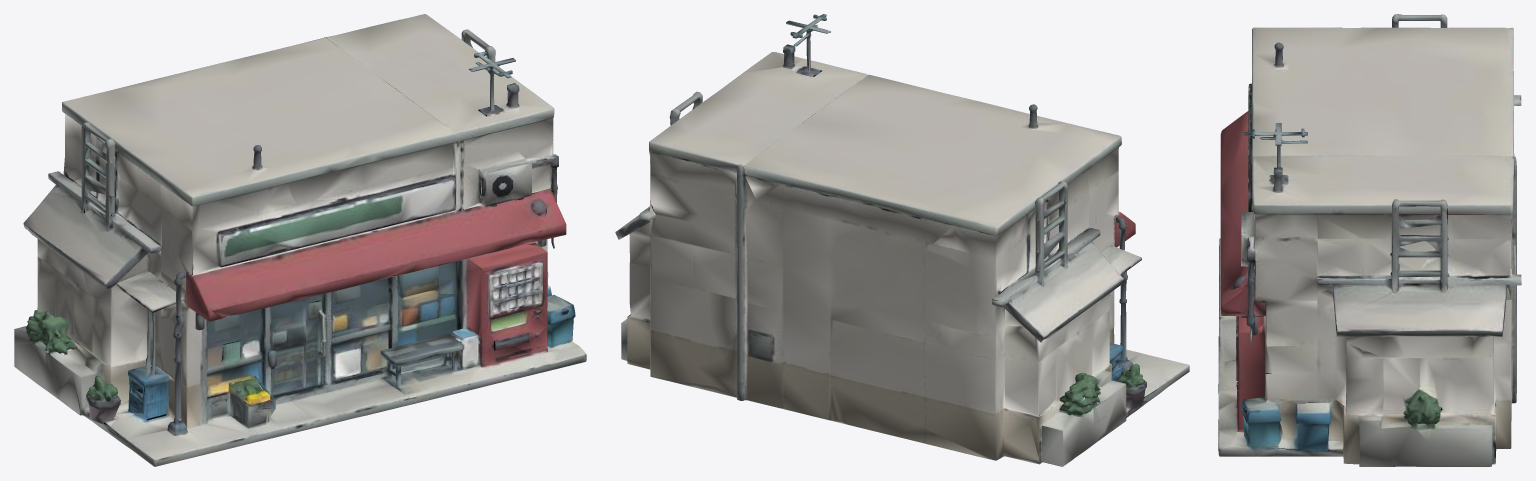
The model's file is building13.glb.
3 renders of one model, left to right at view 1: azimuth 30°, elevation 25°; view 2: azimuth 150°, elevation 25°; view 3: azimuth 270°, elevation 25°, orthographic. The views are drawn at different scales.
Parts seen in each view (by area): view 1: lo; view 2: lo; view 3: lo.
Part boxes in pixels (left/top/right/bottom): lo: left=14, top=14, right=586, bottom=466; lo: left=615, top=14, right=1189, bottom=466; lo: left=1218, top=14, right=1521, bottom=466.
Bounding box in the file's own units: 1 × 0.591 × 0.551.
1 material, 1 textured.
